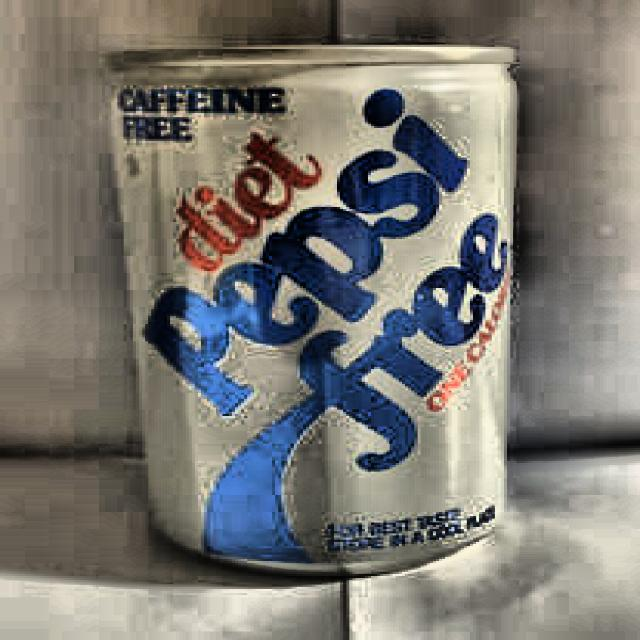Cans: (57, 25, 531, 579)
